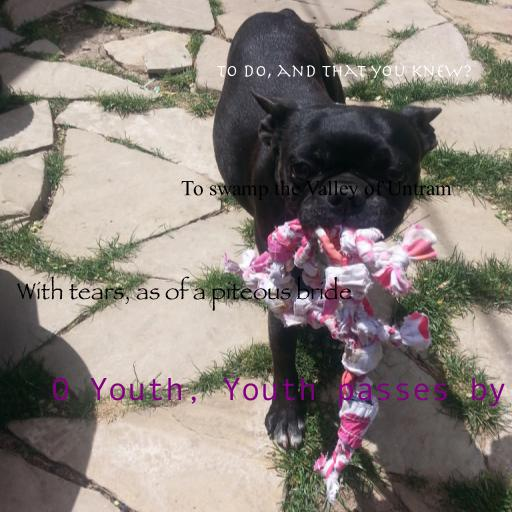Andale Mono: (51, 377, 507, 407)
Herculanum: (216, 64, 472, 79)
Papyrus: (16, 276, 352, 311)
Times New Roman: (180, 180, 452, 200)
